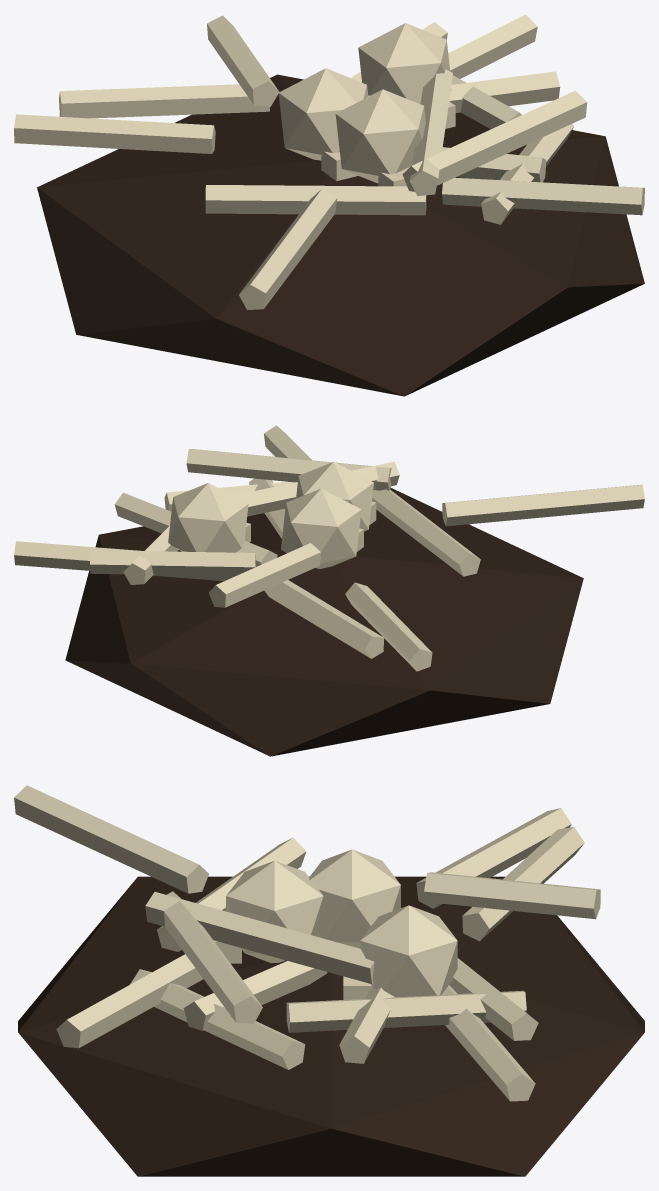
The model's file is bone_pile.glb.
3 renders of one model, top to bottom at view 1: azimuth 30°, elevation 25°; view 2: azimuth 150°, elevation 25°; view 3: azimuth 270°, elevation 25°, orthographic. The views are drawn at different scales.
Visible parts, largest first — view 1: bone_pile; view 2: bone_pile; view 3: bone_pile.
Boxes of the visible parts, bbox=[...] form: bone_pile: bbox=[14, 14, 644, 396]; bone_pile: bbox=[14, 425, 644, 756]; bone_pile: bbox=[14, 785, 644, 1176].
Bounding box in the file's own units: 1.65 × 0.695 × 1.54.
Materials: 1 (1 with a texture image).
